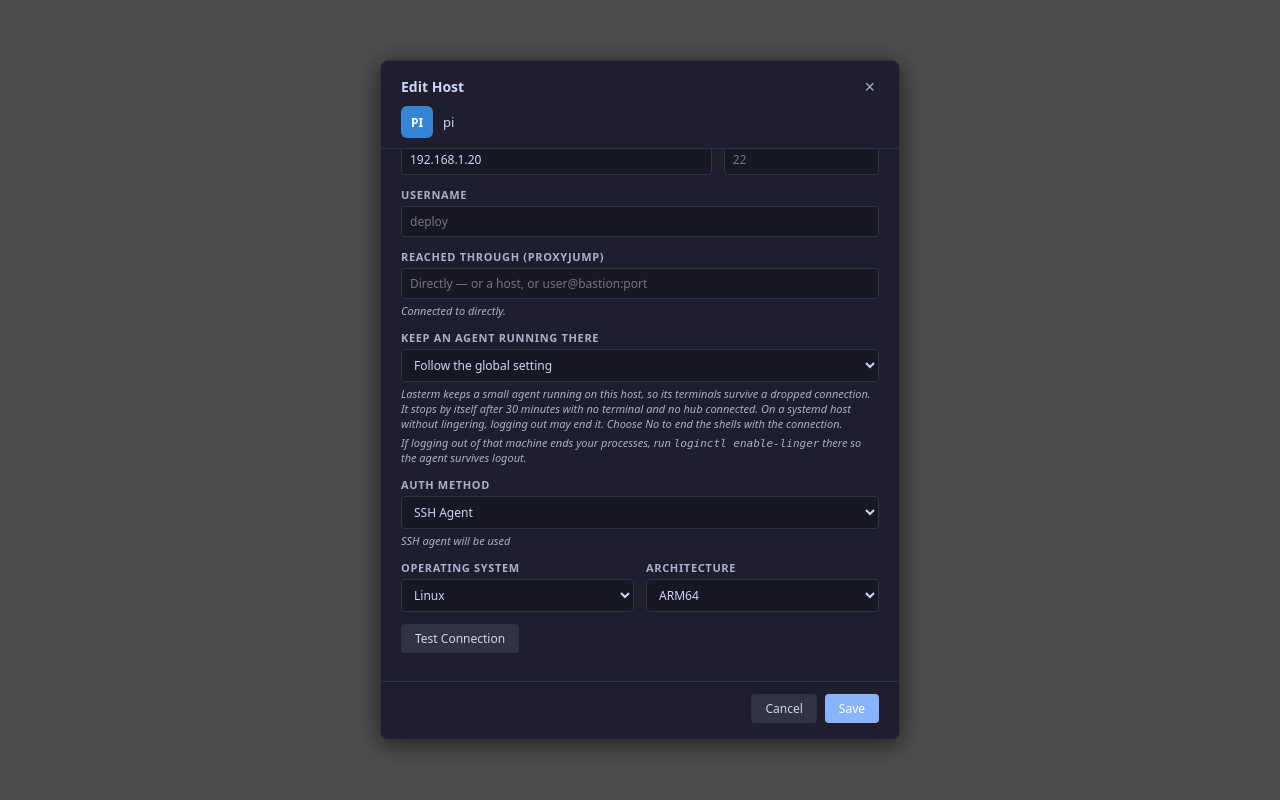
it: HostModal when the hub refuses a save (#703) › says why a host reached through its daemon cannot become Windows (#674)
(page scrolled)
Select "Windows" in the dropdown below "Operating System": (518, 596) [401,579,634,612]
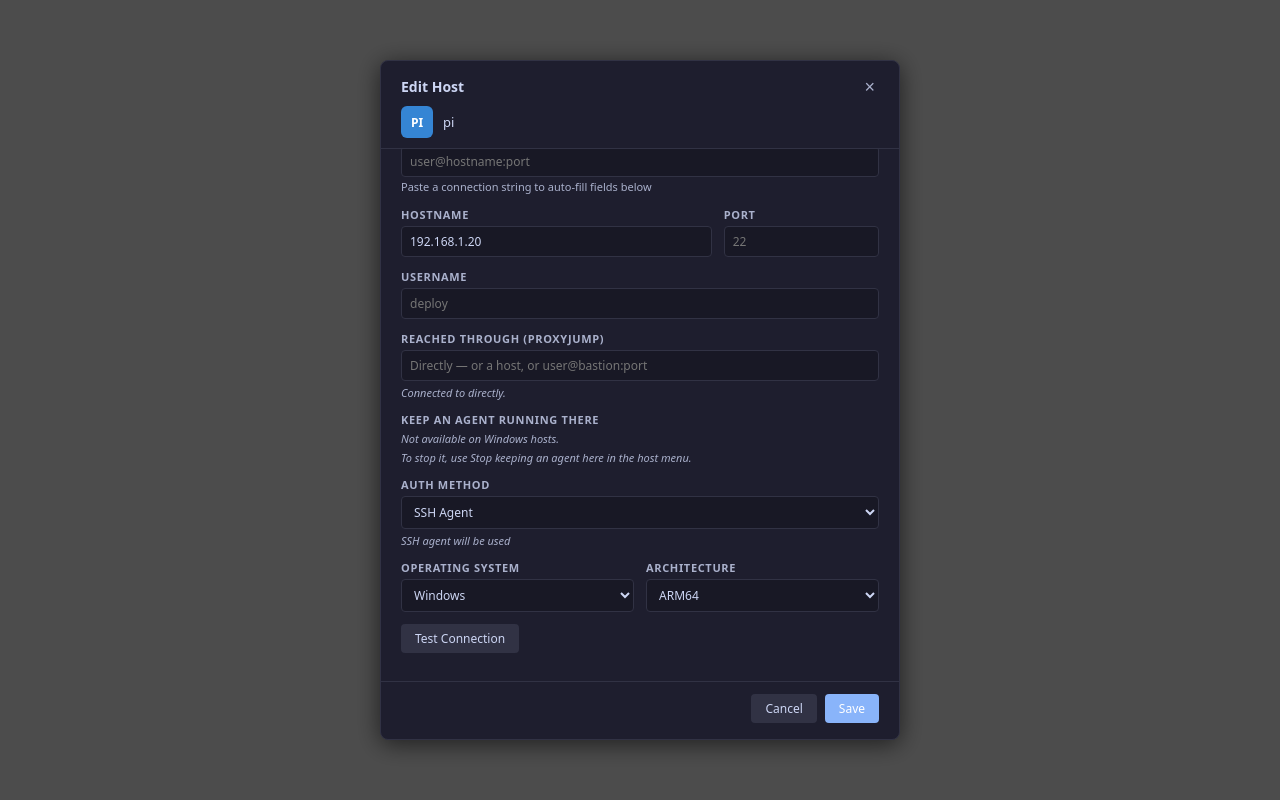
Click the button "Save": (852, 708) [825,694,879,723]
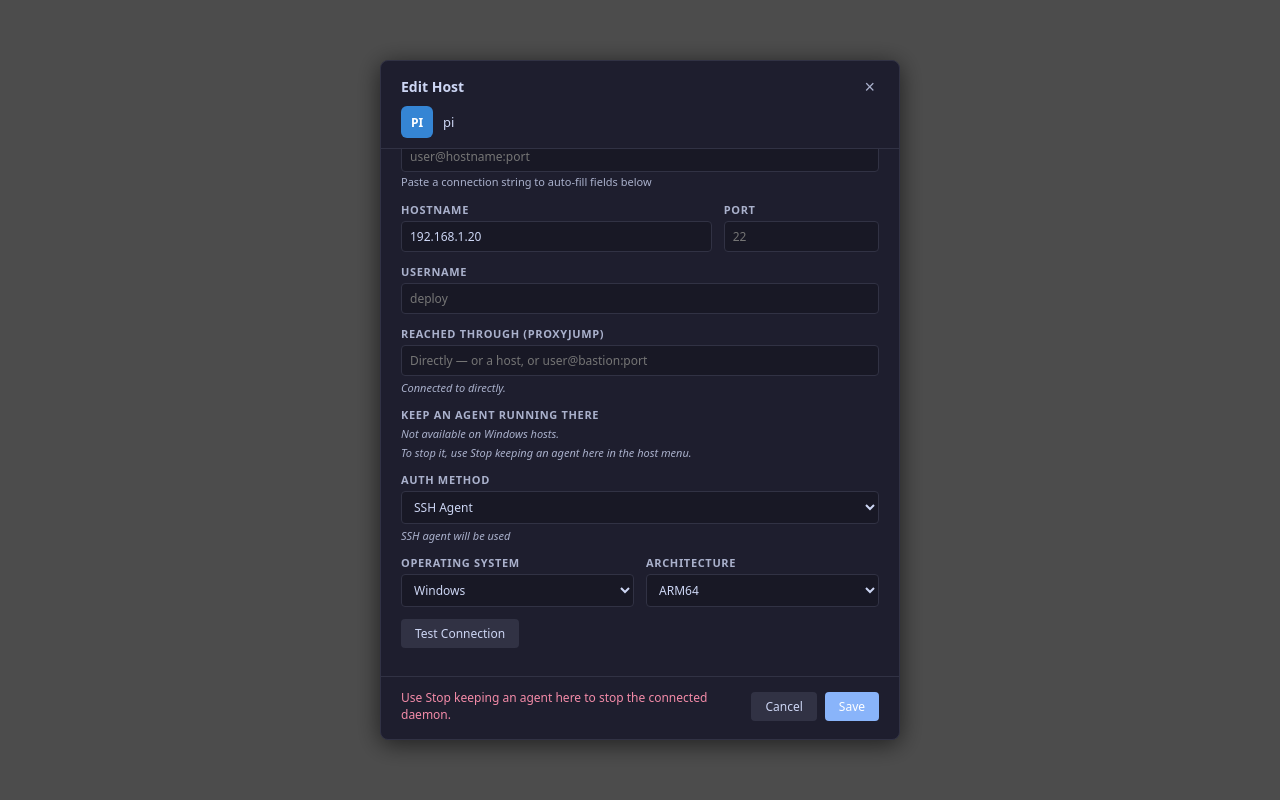
Now the message "Use Stop keeping an agent here to stop the connected daemon." is shown, box [401,689,744,723]
